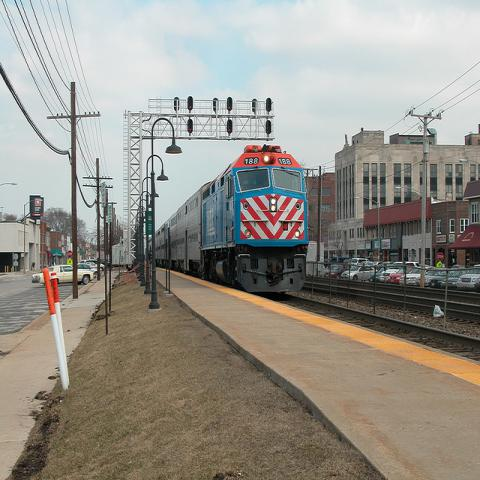car: (79, 257, 465, 291), (31, 263, 93, 286), (380, 262, 420, 282), (457, 265, 479, 293), (372, 260, 396, 284), (341, 267, 374, 280), (388, 266, 413, 282), (401, 267, 421, 286), (323, 265, 347, 279), (80, 262, 103, 276), (328, 257, 352, 264), (349, 258, 370, 266), (83, 259, 99, 267), (343, 258, 352, 269)
